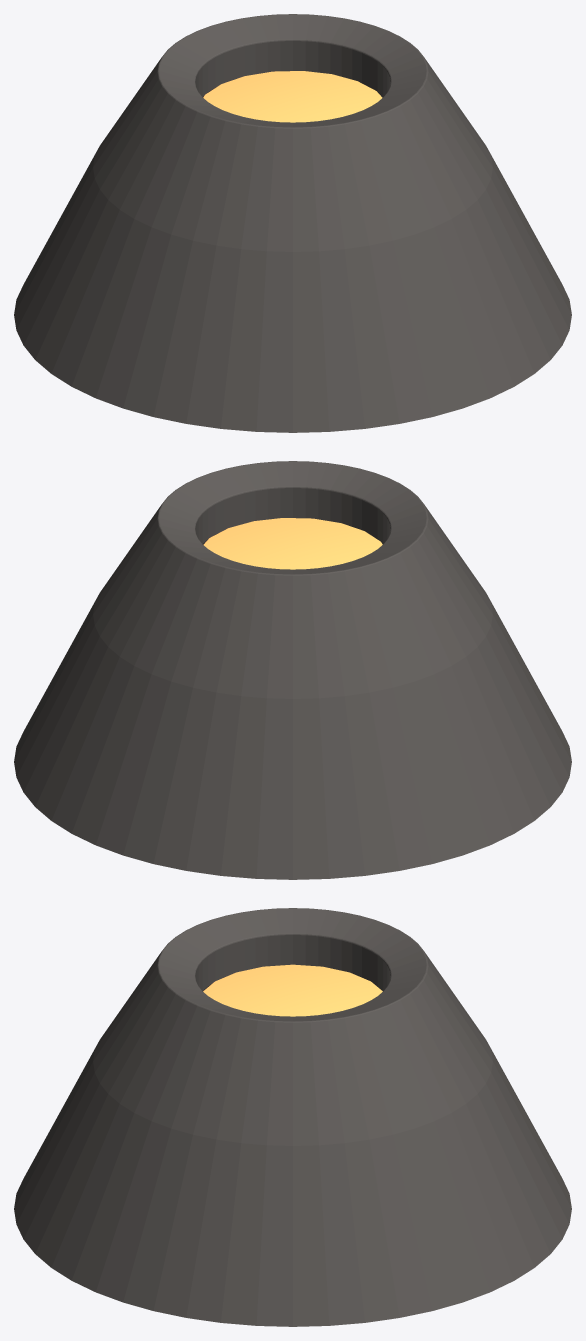
The model's file is landmark-tropical.glb.
The picture shows the model from 3 angles, top to bottom: view 1: azimuth 30°, elevation 25°; view 2: azimuth 150°, elevation 25°; view 3: azimuth 270°, elevation 25°; orthographic projection.
Visible parts, largest first — view 1: Geometry_Basalt, Geometry_Lava; view 2: Geometry_Basalt, Geometry_Lava; view 3: Geometry_Basalt, Geometry_Lava.
Part boxes in pixels (box(x1,y1,x2,y2)): Geometry_Basalt: box(14, 14, 571, 432); Geometry_Lava: box(203, 71, 382, 122); Geometry_Basalt: box(14, 461, 571, 879); Geometry_Lava: box(203, 518, 382, 569); Geometry_Basalt: box(14, 908, 571, 1326); Geometry_Lava: box(203, 964, 382, 1016).
Size of the model in its own units: 12 by 5.79 by 12.
